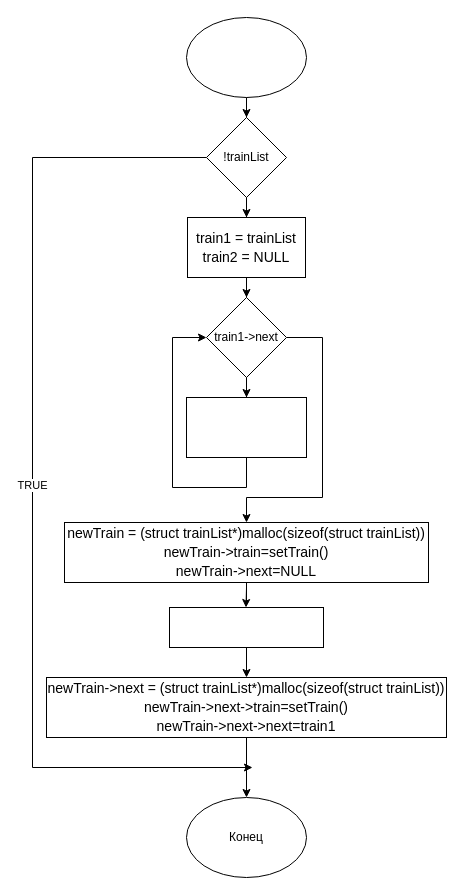
This 464x895 diagram has some shape labels left out. The centre of each missing label's shape, as x and y in pixels:
train2 = train1 train1 = train1->next: [246,427]
train2->next = newTrain: [246,627]
Начало variantFunction: [246,57]
